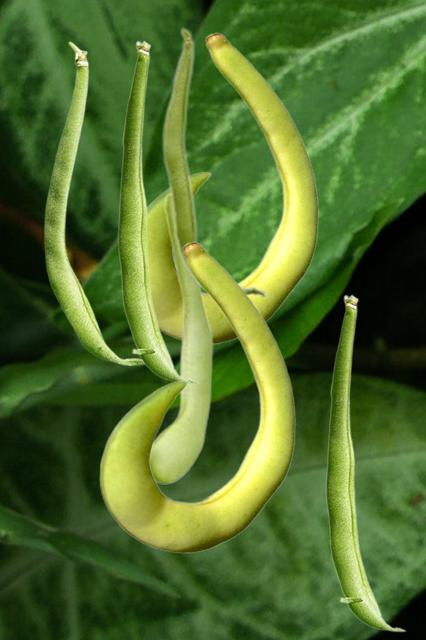french_bean: (99, 241, 295, 552), (148, 32, 318, 343), (44, 41, 143, 365), (160, 26, 268, 299), (117, 40, 199, 383), (325, 294, 406, 631), (151, 193, 212, 483)
